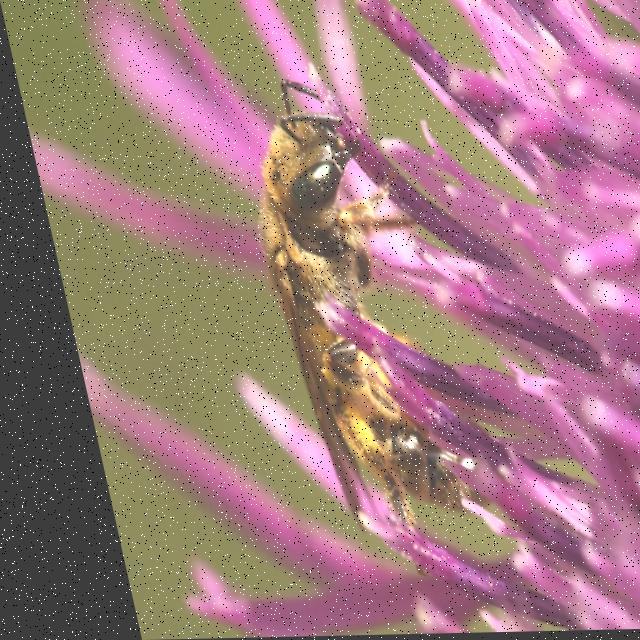Seladonia: (200, 69, 485, 558)
